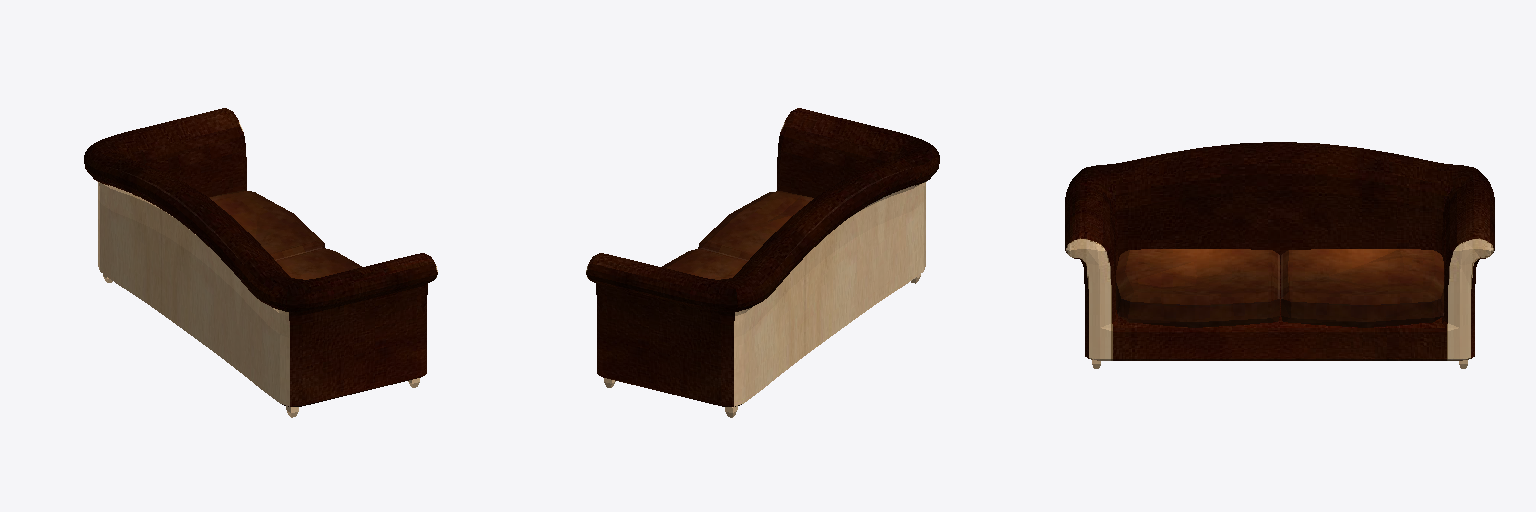
3 renders of one model, left to right at view 1: azimuth 30°, elevation 25°; view 2: azimuth 150°, elevation 25°; view 3: azimuth 270°, elevation 25°, orthographic.
Parts seen in each view (by area): view 1: sofa_1; view 2: sofa_1; view 3: sofa_1.
Boxes of the visible parts, box(x1,y1,x2,y2) form: sofa_1: box(84, 108, 437, 417); sofa_1: box(586, 108, 939, 417); sofa_1: box(1065, 142, 1494, 368).
Size of the model in its own units: 7.69 by 7.08 by 17.27.
1 materials, 1 textured.